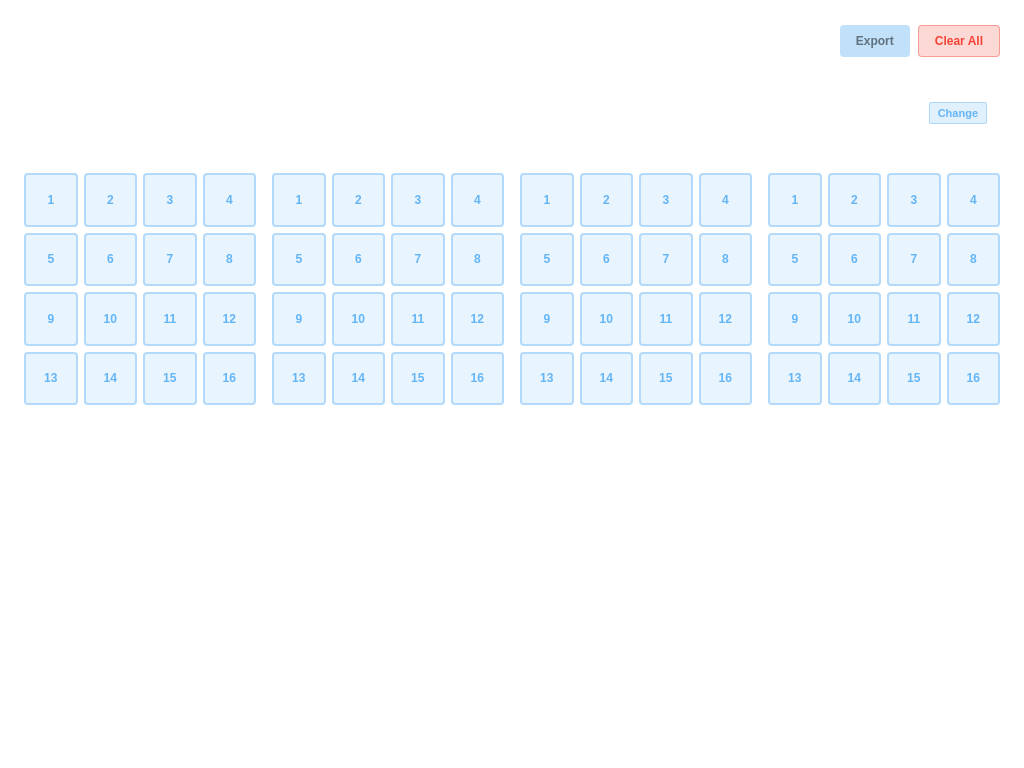
Scenario: KoalaKitBuilder Component › Pad Interactions › assigned pad shows sample name
What coordinates should you click on to do the following:
click the button with test id "pad-A-1"
I would click on:
 (51, 200)
Its box is [24,173,78,226].
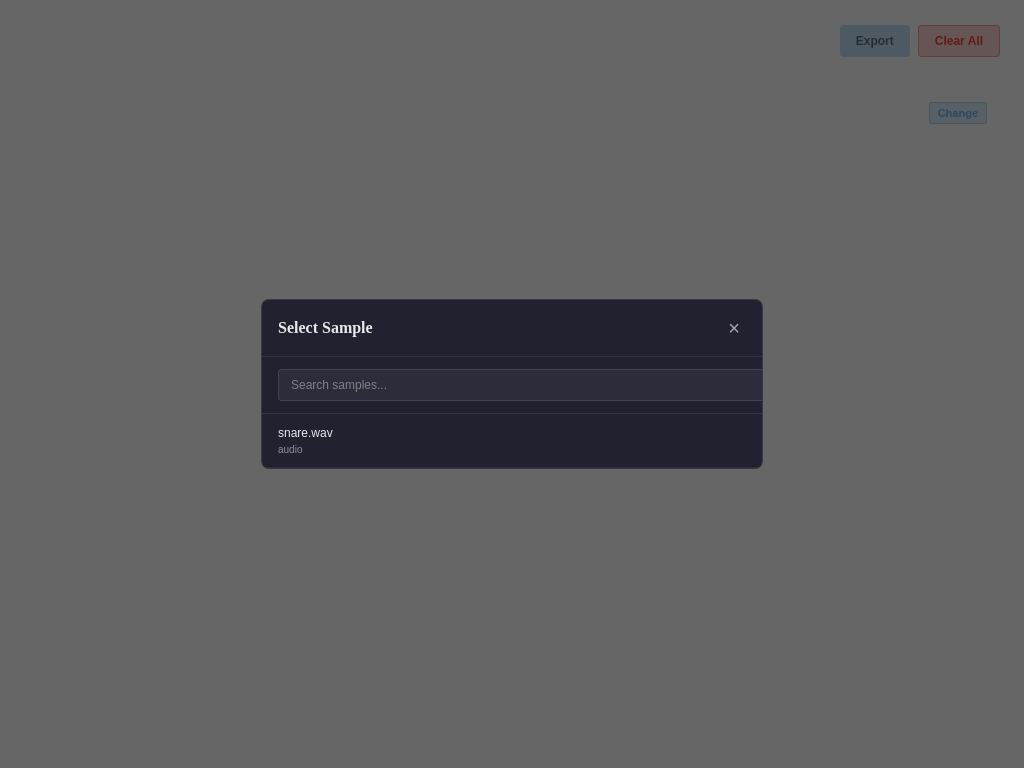
What coordinates should you click on to do the following:
click the button with class "sample-item"
I would click on:
 (305, 433)
Its box is [262,414,762,468].
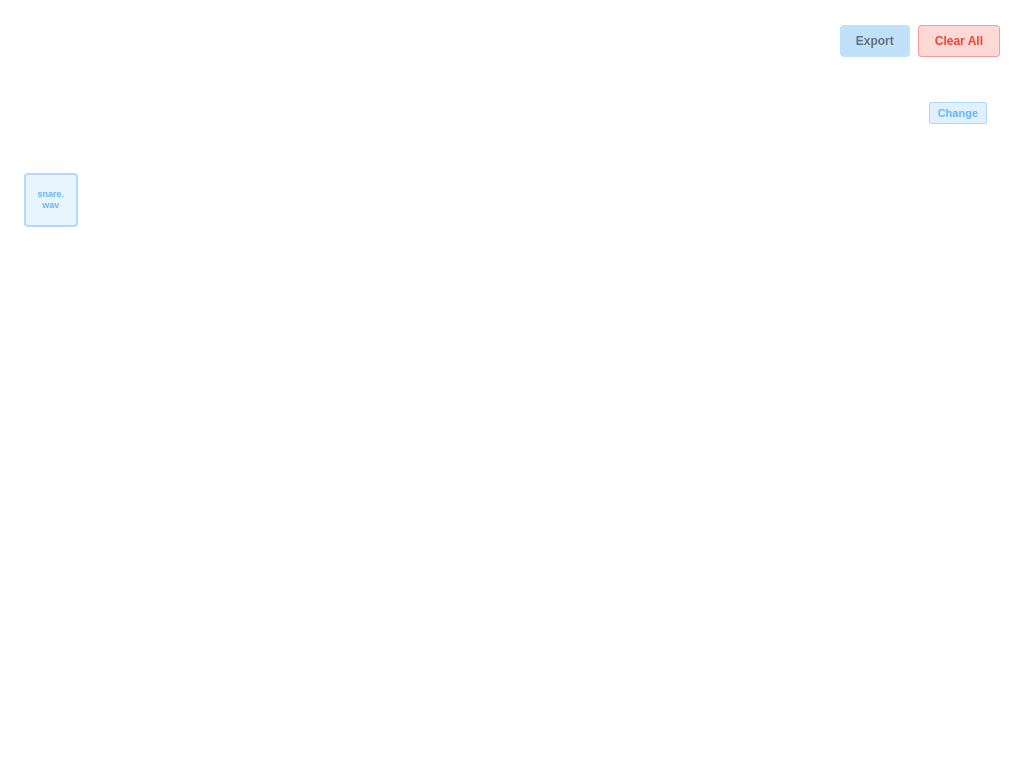
Result: the button with test id "pad-A-1" reads "snare.wav" at [24,173,78,226]
